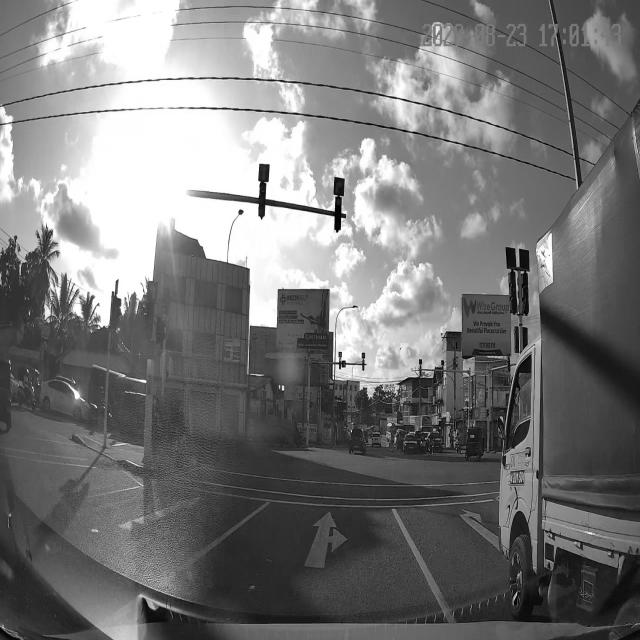forward_right: (156, 506, 440, 588), (156, 512, 442, 588), (156, 517, 441, 587)
